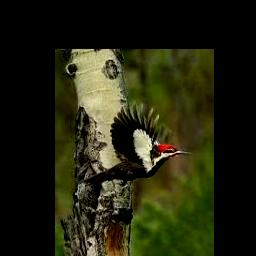Woodpecker: (79, 102, 192, 188)
